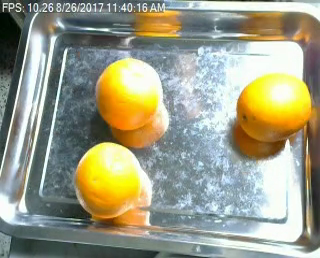Orange: (73, 139, 141, 217), (236, 73, 312, 142), (94, 57, 162, 130)
